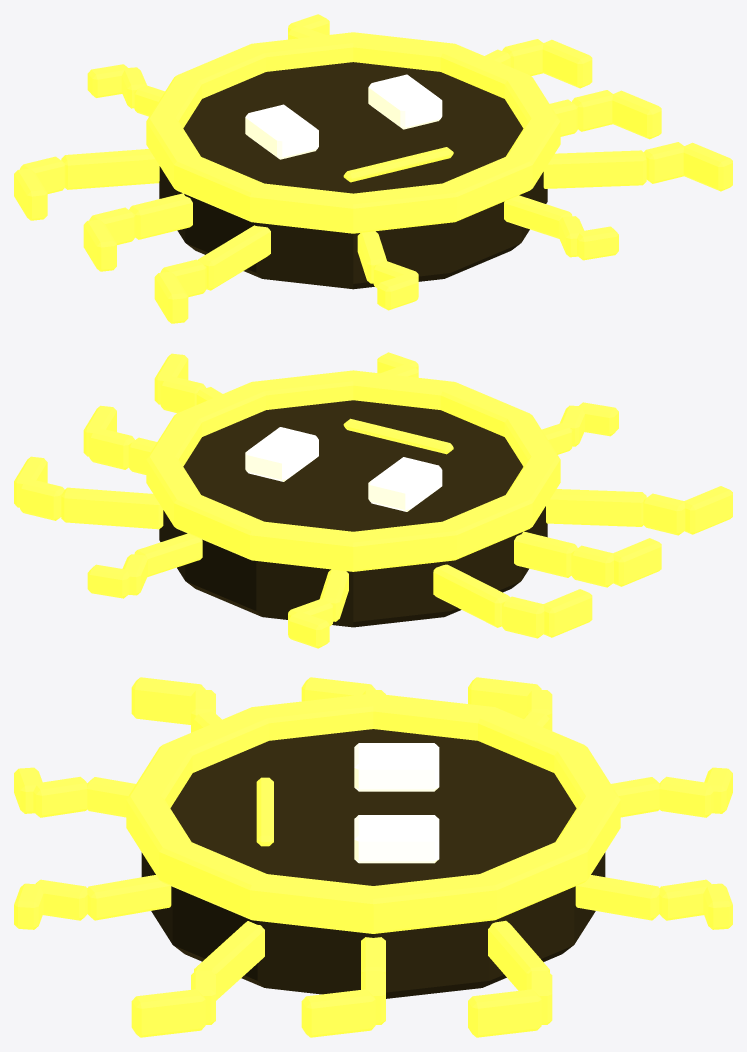
File: bug.glb
The picture shows the model from 3 angles, top to bottom: view 1: azimuth 30°, elevation 25°; view 2: azimuth 150°, elevation 25°; view 3: azimuth 270°, elevation 25°; orthographic projection. The views are drawn at different scales.
Parts seen in each view (by area): view 1: bug-gold, bug-shell, bug-eyes; view 2: bug-gold, bug-shell, bug-eyes; view 3: bug-gold, bug-shell, bug-eyes.
Boxes of the visible parts, box(x1,y1,x2,y2) form: bug-gold: box(14, 14, 732, 323); bug-shell: box(159, 62, 547, 289); bug-eyes: box(245, 74, 442, 159); bug-gold: box(14, 352, 732, 648); bug-shell: box(159, 400, 547, 627); bug-eyes: box(245, 427, 442, 511); bug-gold: box(14, 677, 732, 1037); bug-shell: box(141, 729, 605, 998); bug-eyes: box(354, 743, 439, 863).
Size of the model in its own units: 2 by 0.3373 by 1.85.
